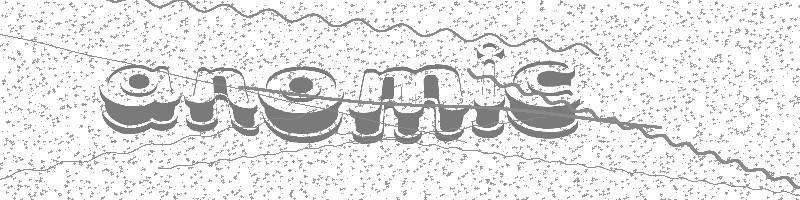a: (97, 63, 183, 135)
c: (505, 60, 581, 140)
i: (470, 41, 506, 140)
m: (347, 63, 467, 144)
n: (183, 65, 261, 141)
o: (258, 65, 344, 144)
